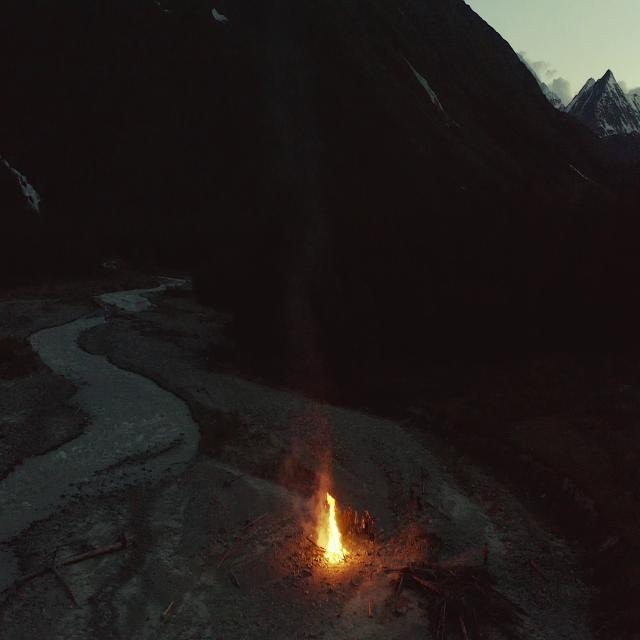Fire: (313, 483, 349, 570)
